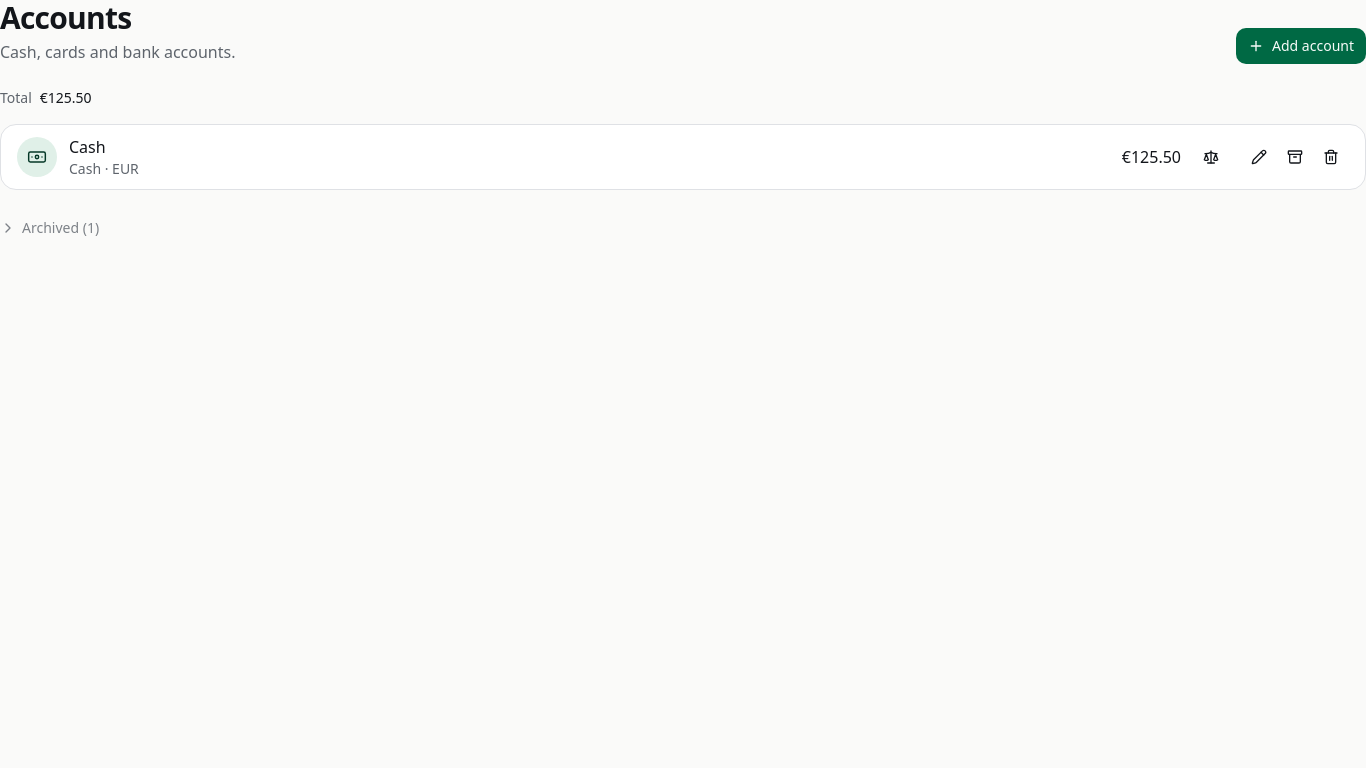
Scenario: AccountsPage › warns before archiving an account that still holds money
Click the button named "Archive Cash": {"x": 1295, "y": 157} [1277,139,1313,175]
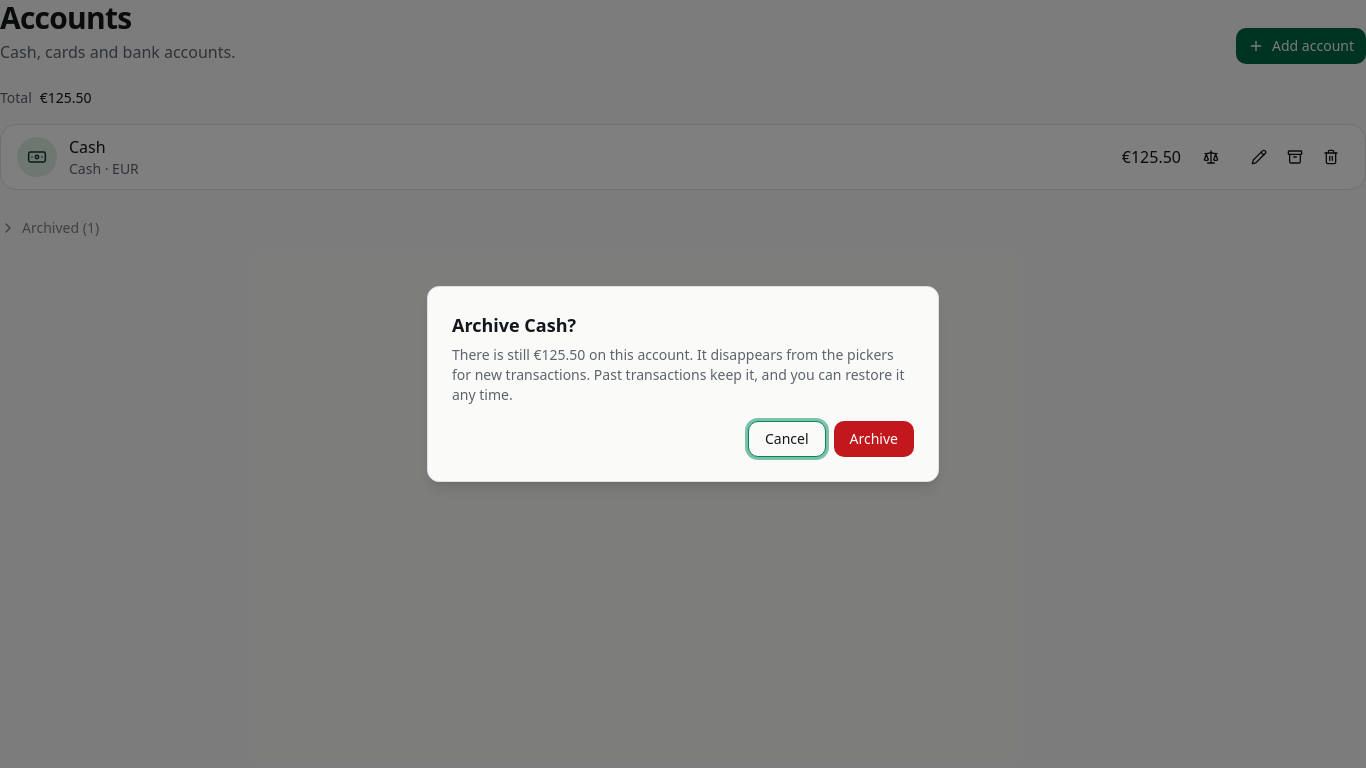
Check: the dialog shows "There is still €125.50 on this account.", box [452,345,904,404]
